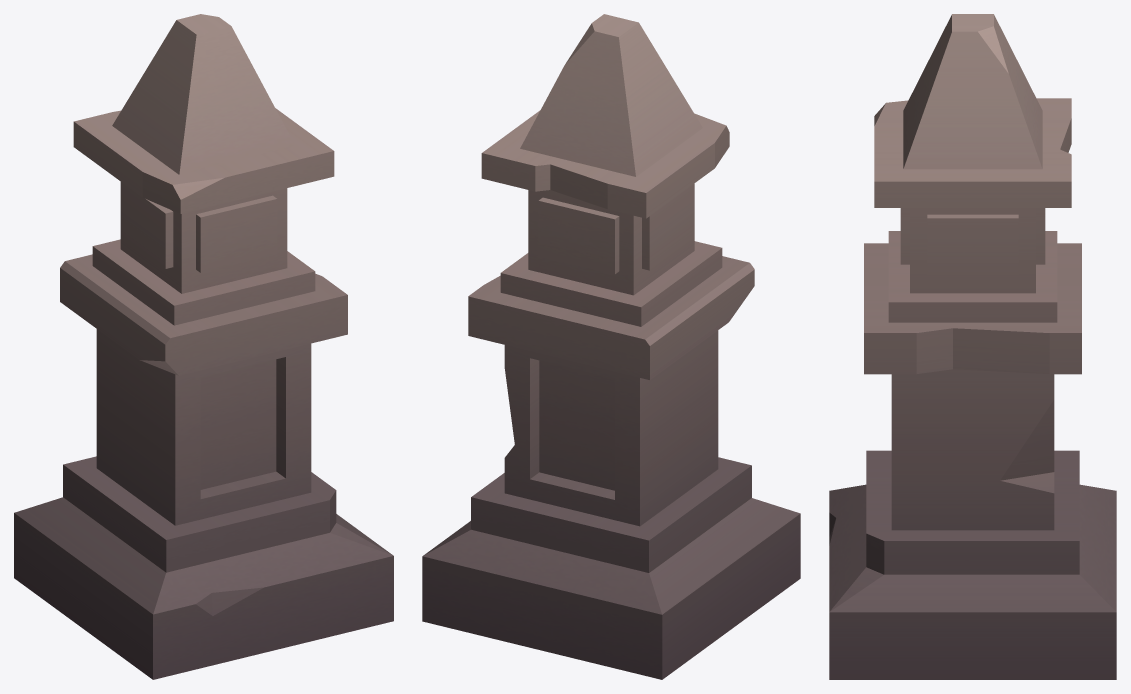
The model's file is obelisk1.glb.
The picture shows the model from 3 angles, left to right: view 1: azimuth 30°, elevation 25°; view 2: azimuth 150°, elevation 25°; view 3: azimuth 270°, elevation 25°; orthographic projection. The views are drawn at different scales.
Visible parts, largest first — view 1: obelisk1; view 2: obelisk1; view 3: obelisk1.
Boxes of the visible parts, x1,y1,x2,y2 form: obelisk1: (14, 14, 393, 679); obelisk1: (422, 14, 800, 679); obelisk1: (829, 14, 1116, 679).
Size of the model in its own units: 0.7305 by 1.67 by 0.7305.
Materials: 1 (1 with a texture image).
